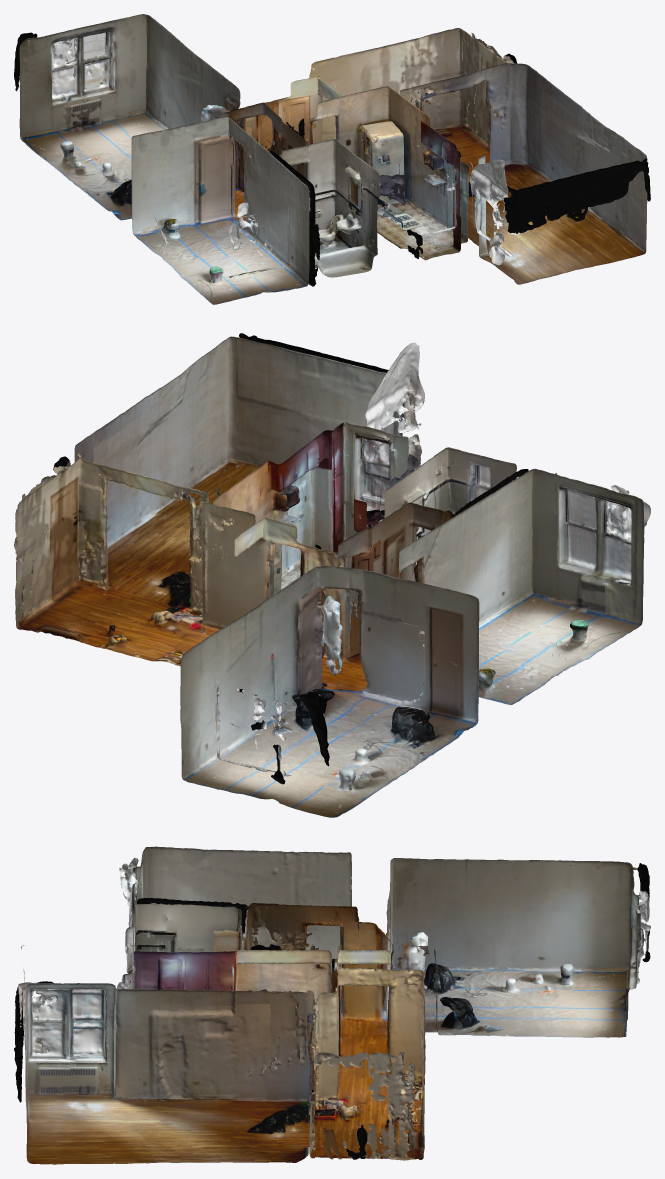
The model's file is apartment_in_not_new_building.glb.
3 renders of one model, top to bottom at view 1: azimuth 30°, elevation 25°; view 2: azimuth 150°, elevation 25°; view 3: azimuth 270°, elevation 25°, orthographic. The views are drawn at different scales.
Visible parts, largest first — view 1: Object_5, Object_10, Object_12, Object_8, Object_16, Object_14, Object_18, Object_24, Object_20, Object_22, Object_6; view 2: Object_5, Object_10, Object_14, Object_16, Object_12, Object_8, Object_18, Object_20, Object_6, Object_22, Object_24; view 3: Object_5, Object_8, Object_14, Object_16, Object_12, Object_18, Object_10, Object_20, Object_6, Object_22, Object_24.
Part boxes in pixels (x1=…): Object_5: x1=19, y1=14, x2=647, y2=304; Object_10: x1=19, y1=25, x2=647, y2=288; Object_12: x1=41, y1=35, x2=622, y2=293; Object_8: x1=19, y1=28, x2=632, y2=284; Object_16: x1=54, y1=33, x2=640, y2=278; Object_14: x1=19, y1=33, x2=496, y2=279; Object_18: x1=52, y1=38, x2=514, y2=281; Object_24: x1=54, y1=38, x2=650, y2=282; Object_20: x1=14, y1=32, x2=644, y2=286; Object_22: x1=52, y1=37, x2=529, y2=282; Object_6: x1=61, y1=89, x2=501, y2=248; Object_5: x1=35, y1=336, x2=644, y2=805; Object_10: x1=16, y1=346, x2=613, y2=795; Object_14: x1=18, y1=414, x2=646, y2=776; Object_16: x1=16, y1=342, x2=644, y2=788; Object_12: x1=15, y1=361, x2=631, y2=808; Object_8: x1=17, y1=353, x2=628, y2=817; Object_18: x1=14, y1=371, x2=631, y2=788; Object_20: x1=14, y1=352, x2=650, y2=792; Object_6: x1=16, y1=350, x2=637, y2=778; Object_22: x1=15, y1=351, x2=650, y2=790; Object_24: x1=46, y1=333, x2=649, y2=790; Object_5: x1=24, y1=846, x2=649, y2=1163; Object_8: x1=26, y1=851, x2=648, y2=1162; Object_14: x1=30, y1=849, x2=649, y2=1151; Object_16: x1=26, y1=848, x2=645, y2=1161; Object_12: x1=26, y1=847, x2=644, y2=1162; Object_18: x1=18, y1=860, x2=649, y2=1159; Object_10: x1=26, y1=864, x2=638, y2=1164; Object_20: x1=18, y1=858, x2=650, y2=1164; Object_6: x1=24, y1=858, x2=562, y2=1126; Object_22: x1=21, y1=864, x2=650, y2=1160; Object_24: x1=14, y1=865, x2=645, y2=1158.
Bounding box in the file's own units: 10.07 × 3.26 × 13.06.
Materials: 10 (10 with a texture image).
